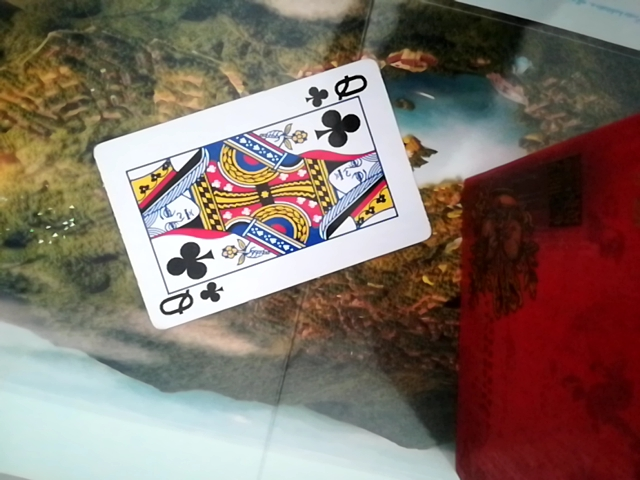mh q: (82, 57, 435, 326)
